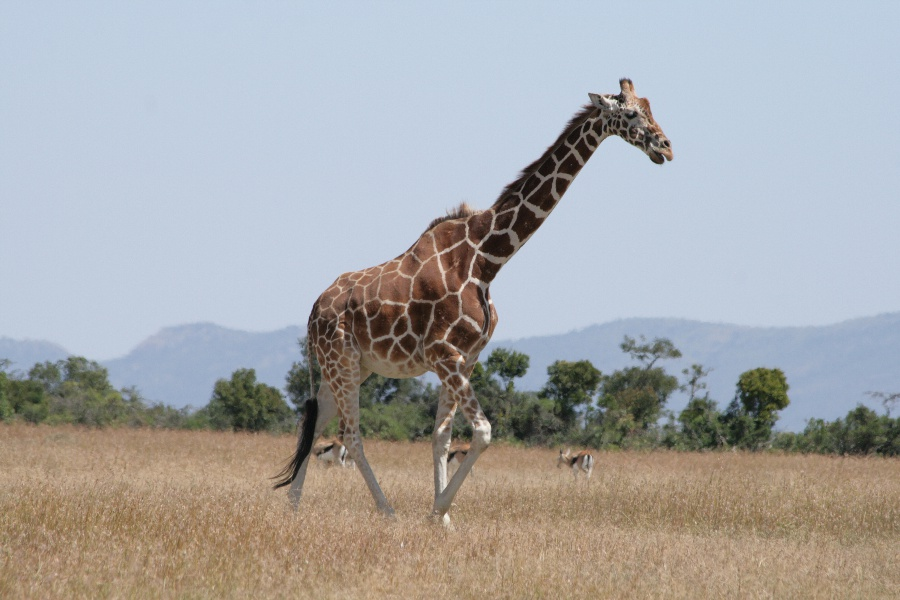giraffe: (267, 69, 678, 522)
